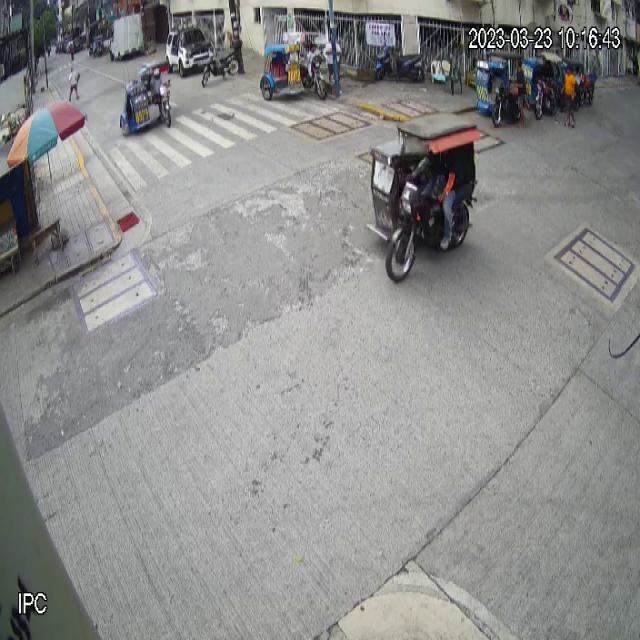Tricycle: (366, 111, 481, 284), (260, 32, 328, 102), (476, 50, 526, 126)
